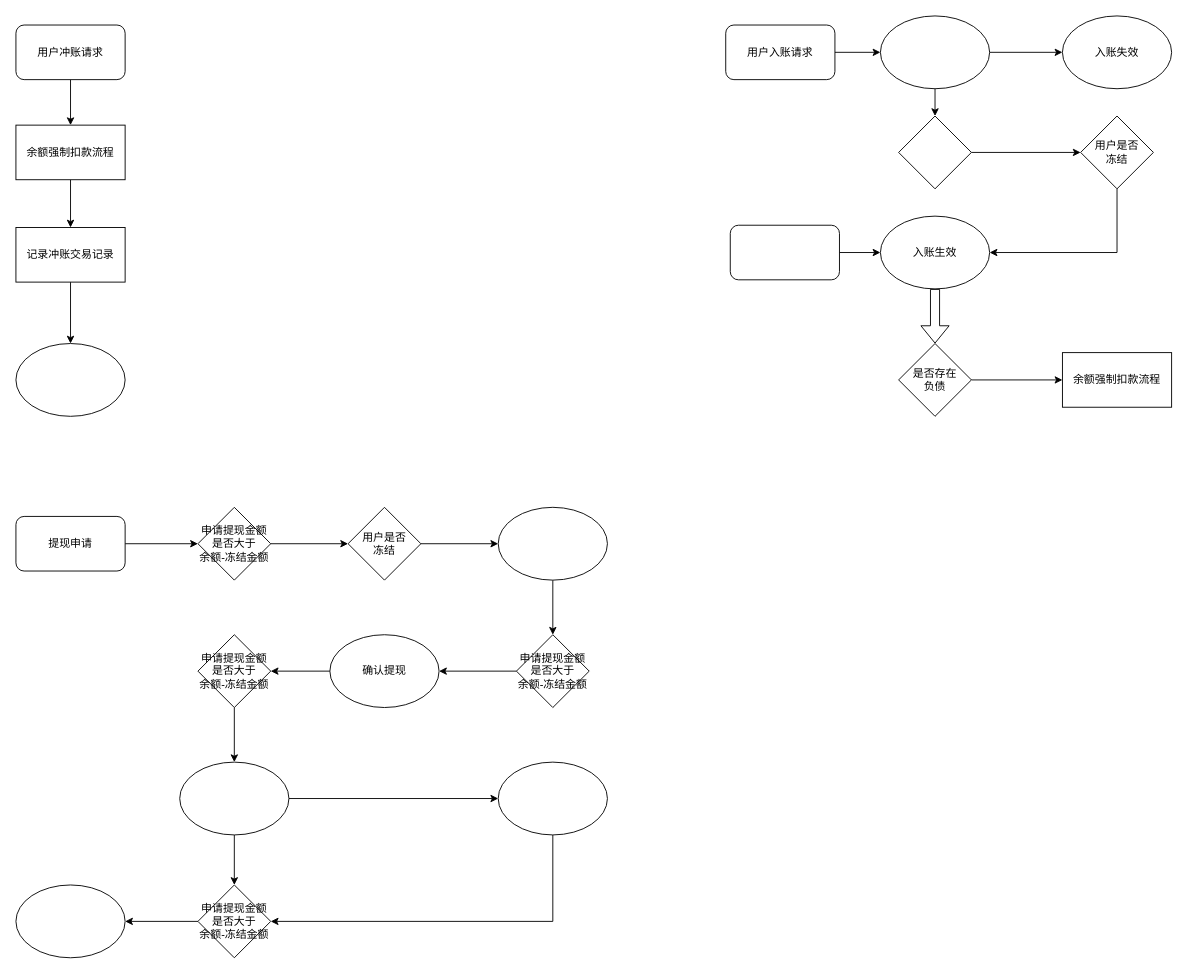
Image size: 1188x974. Some labels were removed from this diagram. Here are the shapes that lost their labels. From the top down, the centre of each, then its label:
pixel 935 52: 入账未生效
pixel 934 152: 记录是否 冻结
pixel 784 252: 直接入账申请
pixel 70 379: 冲账成功
pixel 552 543: 提现申请中
pixel 234 798: 确认打款
pixel 552 798: 打款失败
pixel 70 921: 打款成功
